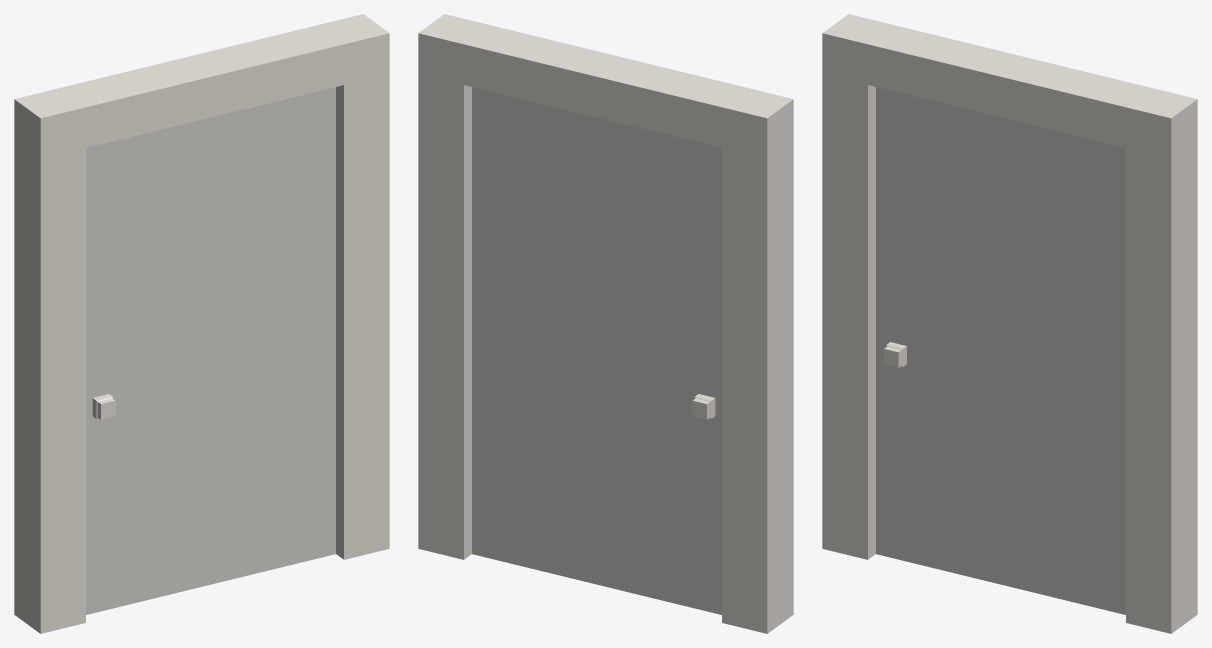
File: Door_1A.fbx
3 views of the same model, side by side, from view 1: azimuth 30°, elevation 25°; view 2: azimuth 150°, elevation 25°; view 3: azimuth 330°, elevation 25° (orthographic).
Visible parts, largest first — view 1: polySurface2015, polySurface2014; view 2: polySurface2015, polySurface2014; view 3: polySurface2015, polySurface2014.
Boxes of the visible parts, left/top/right/bottom form: polySurface2015: left=86, top=87, right=335, bottom=614; polySurface2014: left=14, top=14, right=389, bottom=633; polySurface2015: left=472, top=87, right=721, bottom=614; polySurface2014: left=418, top=14, right=793, bottom=633; polySurface2015: left=876, top=87, right=1125, bottom=614; polySurface2014: left=822, top=14, right=1197, bottom=633.
Bounding box in the file's own units: 2.3 × 3.25 × 0.3.
1 material, 1 textured.
